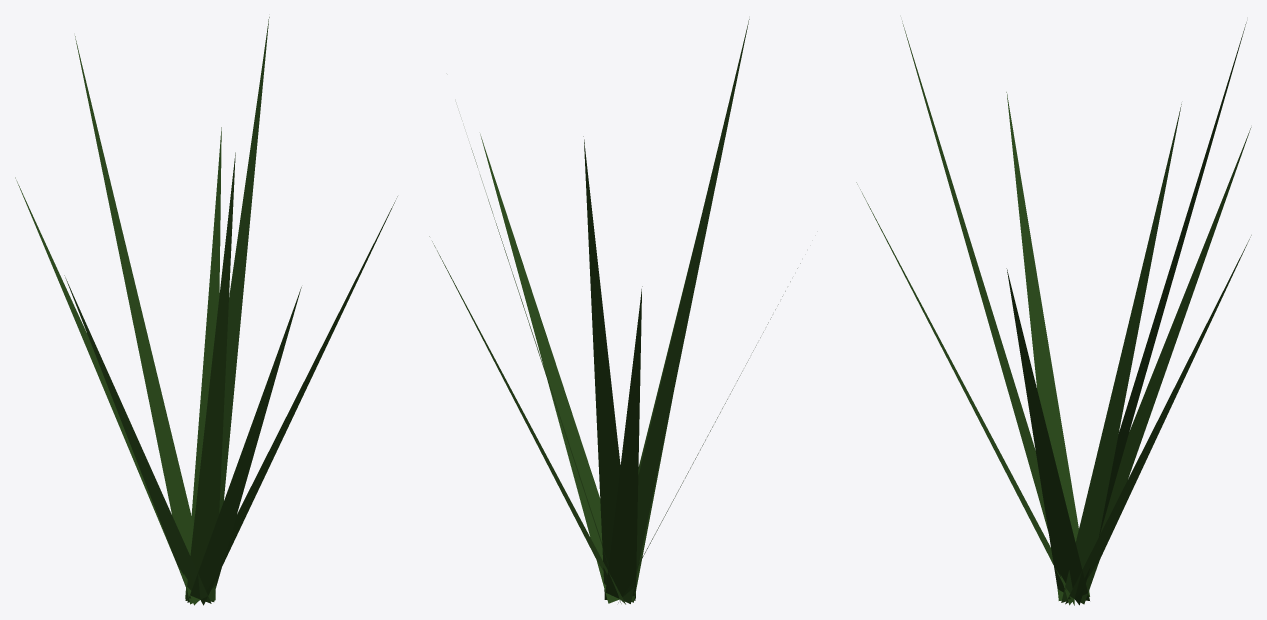
The model's file is perennial-tuft.lod1.glb.
The picture shows the model from 3 angles, left to right: view 1: azimuth 30°, elevation 25°; view 2: azimuth 150°, elevation 25°; view 3: azimuth 270°, elevation 25°; orthographic projection. The views are drawn at different scales.
Visible parts, largest first — view 1: perennial-tuft-leaves; view 2: perennial-tuft-leaves; view 3: perennial-tuft-leaves.
Part boxes in pixels (x1,y1,x2,y2): perennial-tuft-leaves: (15,17,397,605); perennial-tuft-leaves: (429,19,800,604); perennial-tuft-leaves: (856,21,1251,605).
Size of the model in its own units: 0.3043 by 0.45 by 0.2894.
